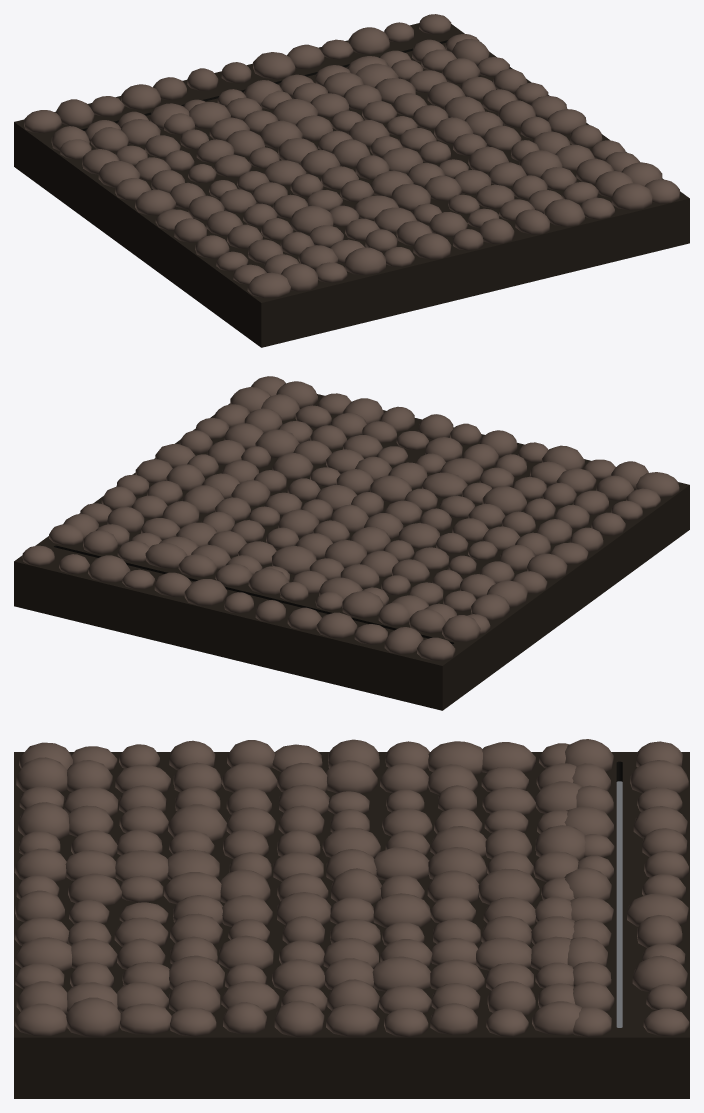
File: 26-cobble-t-junction.glb
3 renders of one model, top to bottom at view 1: azimuth 30°, elevation 25°; view 2: azimuth 150°, elevation 25°; view 3: azimuth 270°, elevation 25°, orthographic. The views are drawn at different scales.
Parts seen in each view (by area): view 1: cobbles, slab; view 2: cobbles, slab; view 3: cobbles, slab.
Part boxes in pixels (bbox=[...]): cobbles: bbox=[24, 14, 679, 297]; slab: bbox=[14, 23, 689, 347]; cobbles: bbox=[22, 376, 679, 660]; slab: bbox=[14, 394, 689, 710]; cobbles: bbox=[14, 739, 689, 1037]; slab: bbox=[14, 752, 689, 1098].
Size of the model in its own units: 1 by 0.139 by 1.
